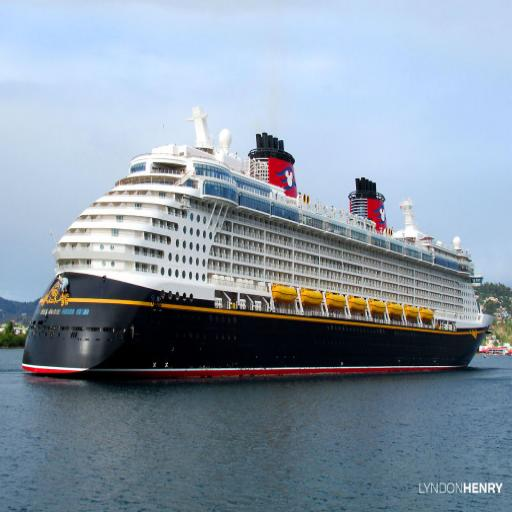cruises: (20, 104, 496, 387)
